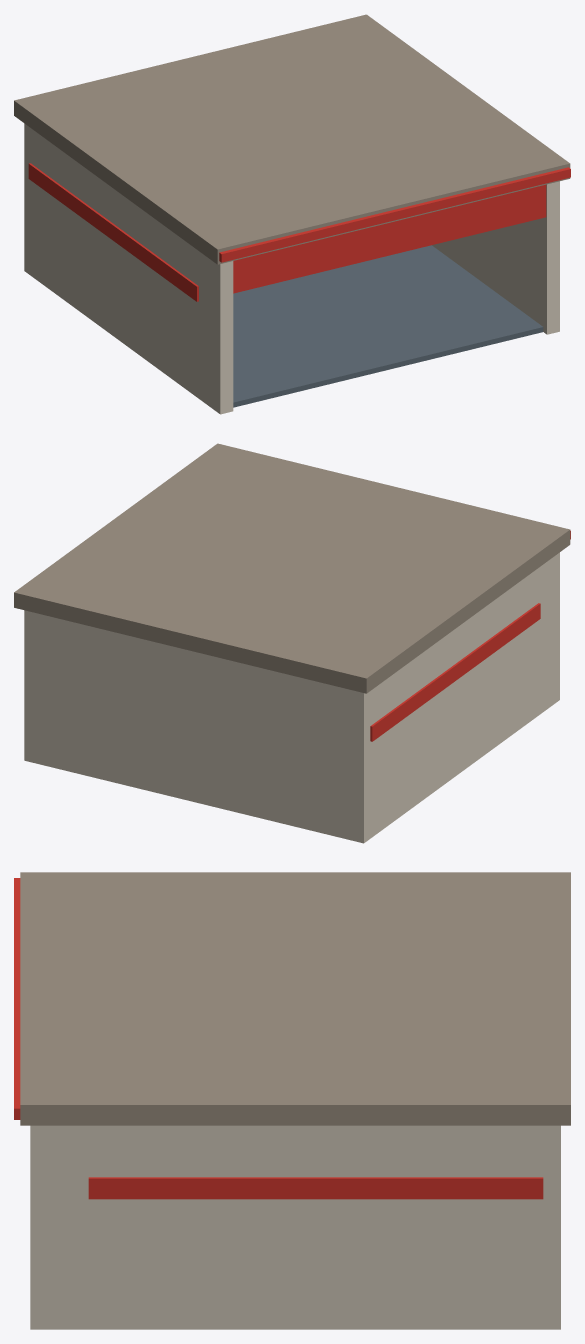
The model's file is pitBox.glb.
3 views of the same model, one above another, from view 1: azimuth 30°, elevation 25°; view 2: azimuth 150°, elevation 25°; view 3: azimuth 270°, elevation 25° (orthographic). The views are drawn at different scales.
Visible parts, largest first — view 1: pitBox_concreteDark, pitBox_concrete, pitBox_tarmac, pitBox_livery; view 2: pitBox_concreteDark, pitBox_concrete, pitBox_livery; view 3: pitBox_concreteDark, pitBox_concrete, pitBox_livery.
Part boxes in pixels (x1,y1,x2,y2): pitBox_concreteDark: (14,14,570,264); pitBox_concrete: (24,123,559,414); pitBox_tarmac: (233,245,543,407); pitBox_livery: (28,163,570,301); pitBox_concreteDark: (14,443,570,693); pitBox_concrete: (24,552,559,843); pitBox_livery: (370,530,570,741); pitBox_concreteDark: (20,872,570,1125); pitBox_concrete: (30,1125,560,1329); pitBox_livery: (14,878,543,1199).
Size of the model in its own units: 21.8 by 10 by 22.05.
